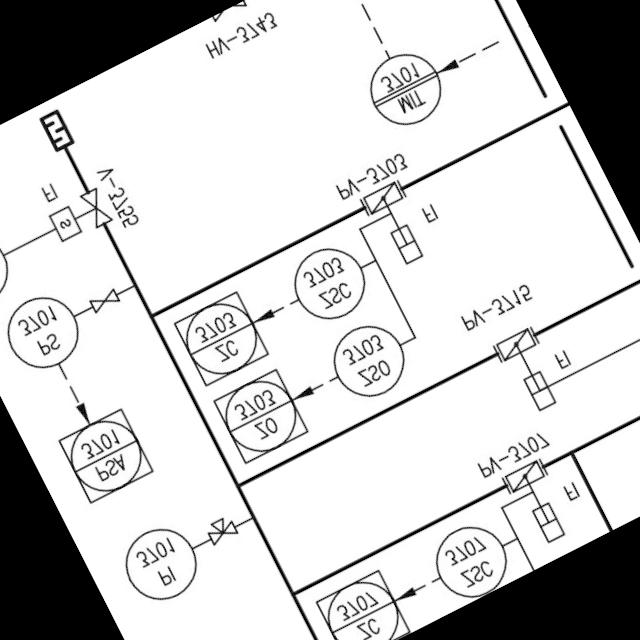3W: (196, 508, 244, 552)
BVWA: (352, 174, 442, 278), (484, 320, 572, 424), (496, 454, 580, 556)
GV: (84, 284, 124, 320)
SV: (43, 182, 116, 251)
